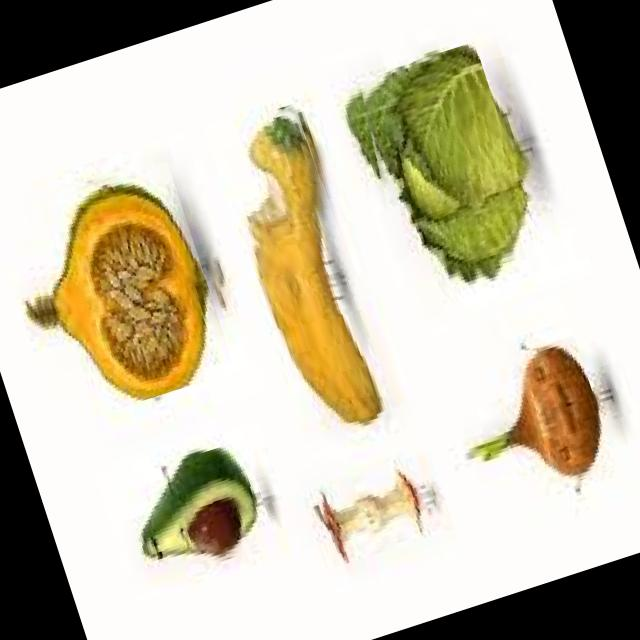Organic: (208, 93, 400, 435), (1, 146, 235, 422), (338, 41, 544, 298), (466, 334, 618, 504), (110, 439, 278, 589), (310, 442, 434, 560)
